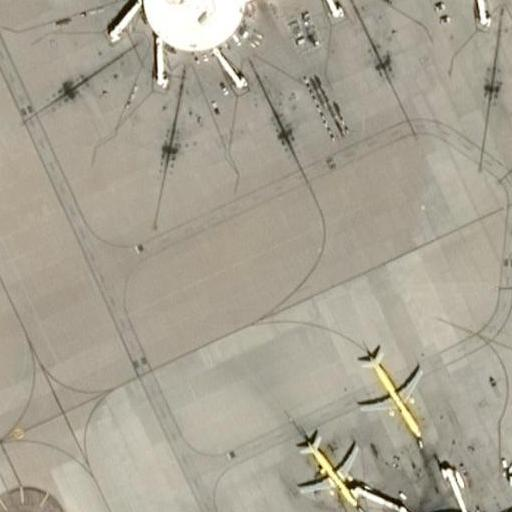Aircraft: (356, 346, 424, 442), (294, 429, 363, 507)
